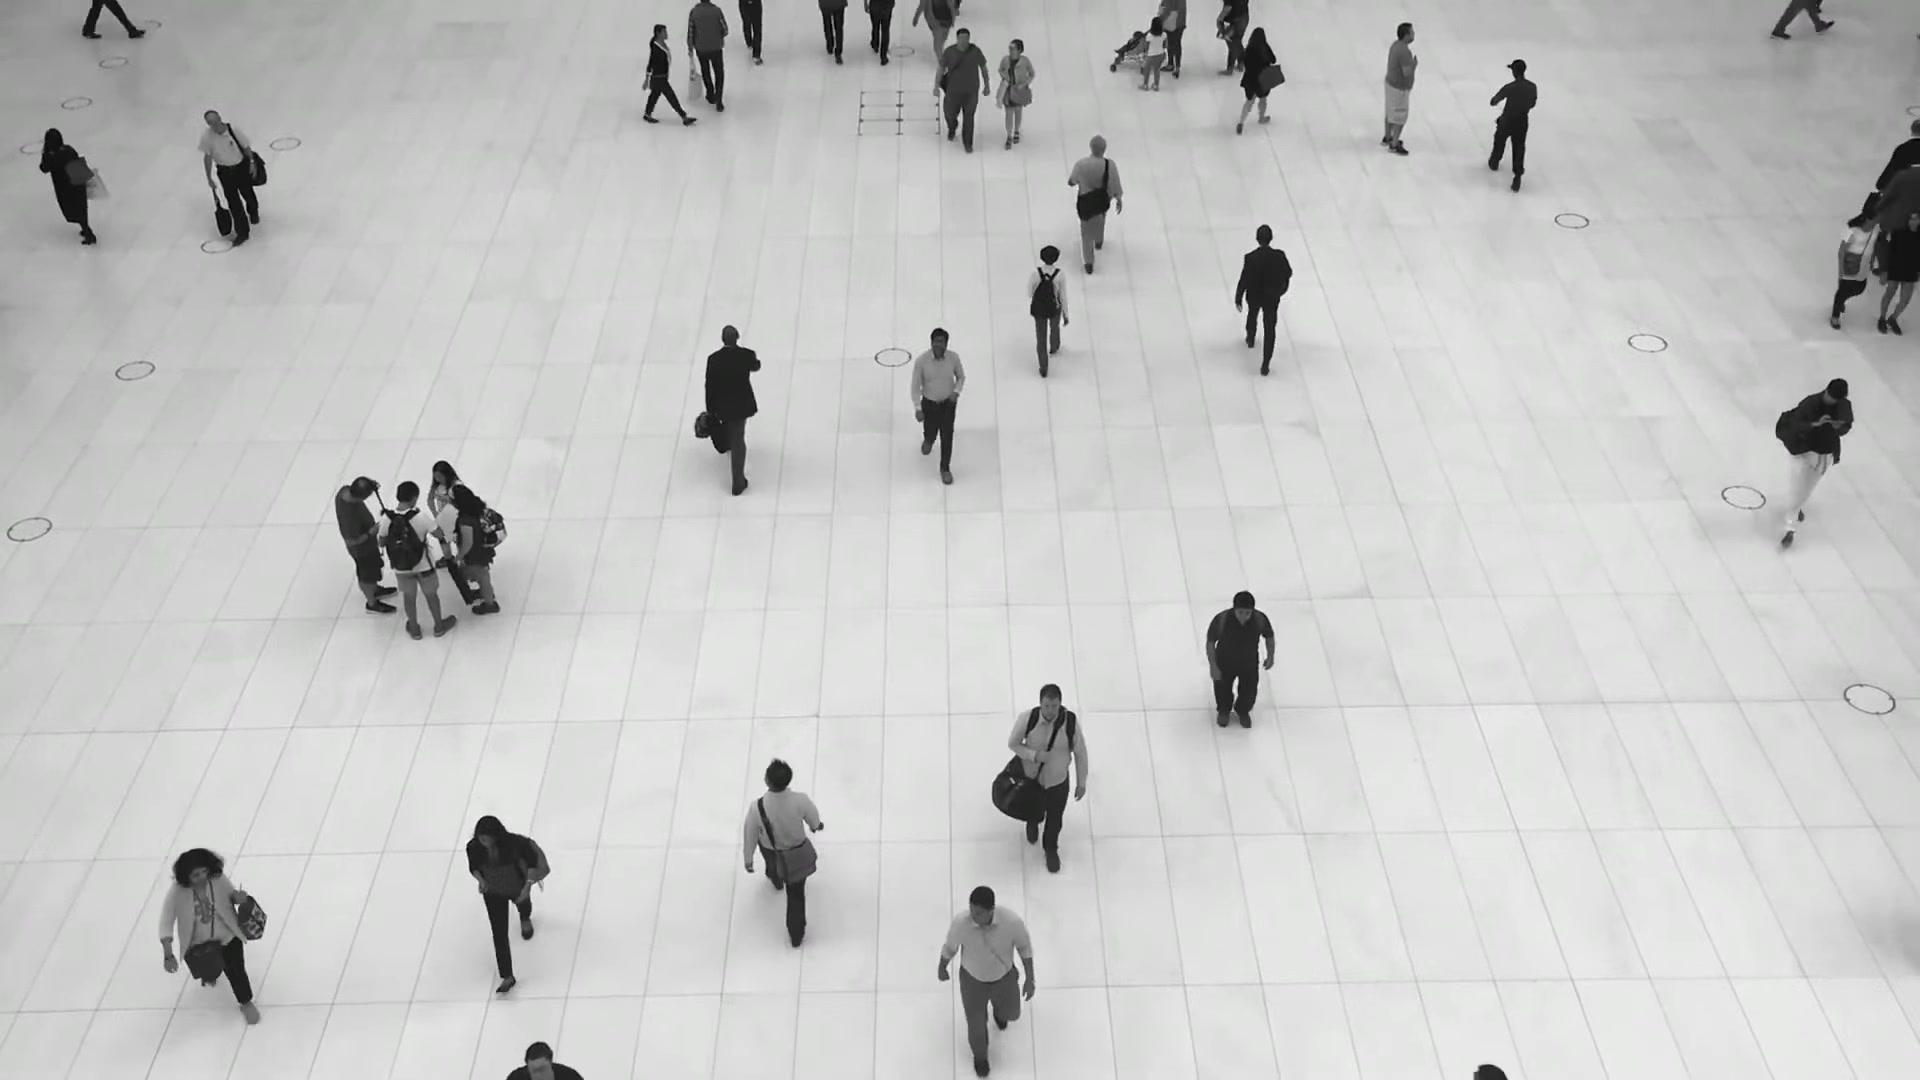person: (155, 844, 262, 1024), (938, 881, 1038, 1071), (1005, 681, 1086, 871), (742, 757, 824, 946), (377, 478, 459, 638), (1777, 377, 1853, 547), (465, 812, 537, 991), (1202, 589, 1276, 744), (701, 324, 762, 495), (334, 468, 400, 613), (908, 325, 967, 482), (1233, 222, 1294, 371), (196, 108, 260, 242), (1068, 133, 1124, 273), (932, 26, 990, 152), (39, 127, 97, 248), (449, 482, 501, 614), (1828, 205, 1881, 329), (1490, 57, 1539, 188), (1027, 245, 1071, 385), (637, 22, 692, 126), (1875, 211, 1919, 341), (1380, 21, 1418, 155), (685, 0, 730, 110), (425, 459, 463, 580), (995, 39, 1035, 151), (1236, 25, 1277, 132), (1137, 16, 1166, 91)
